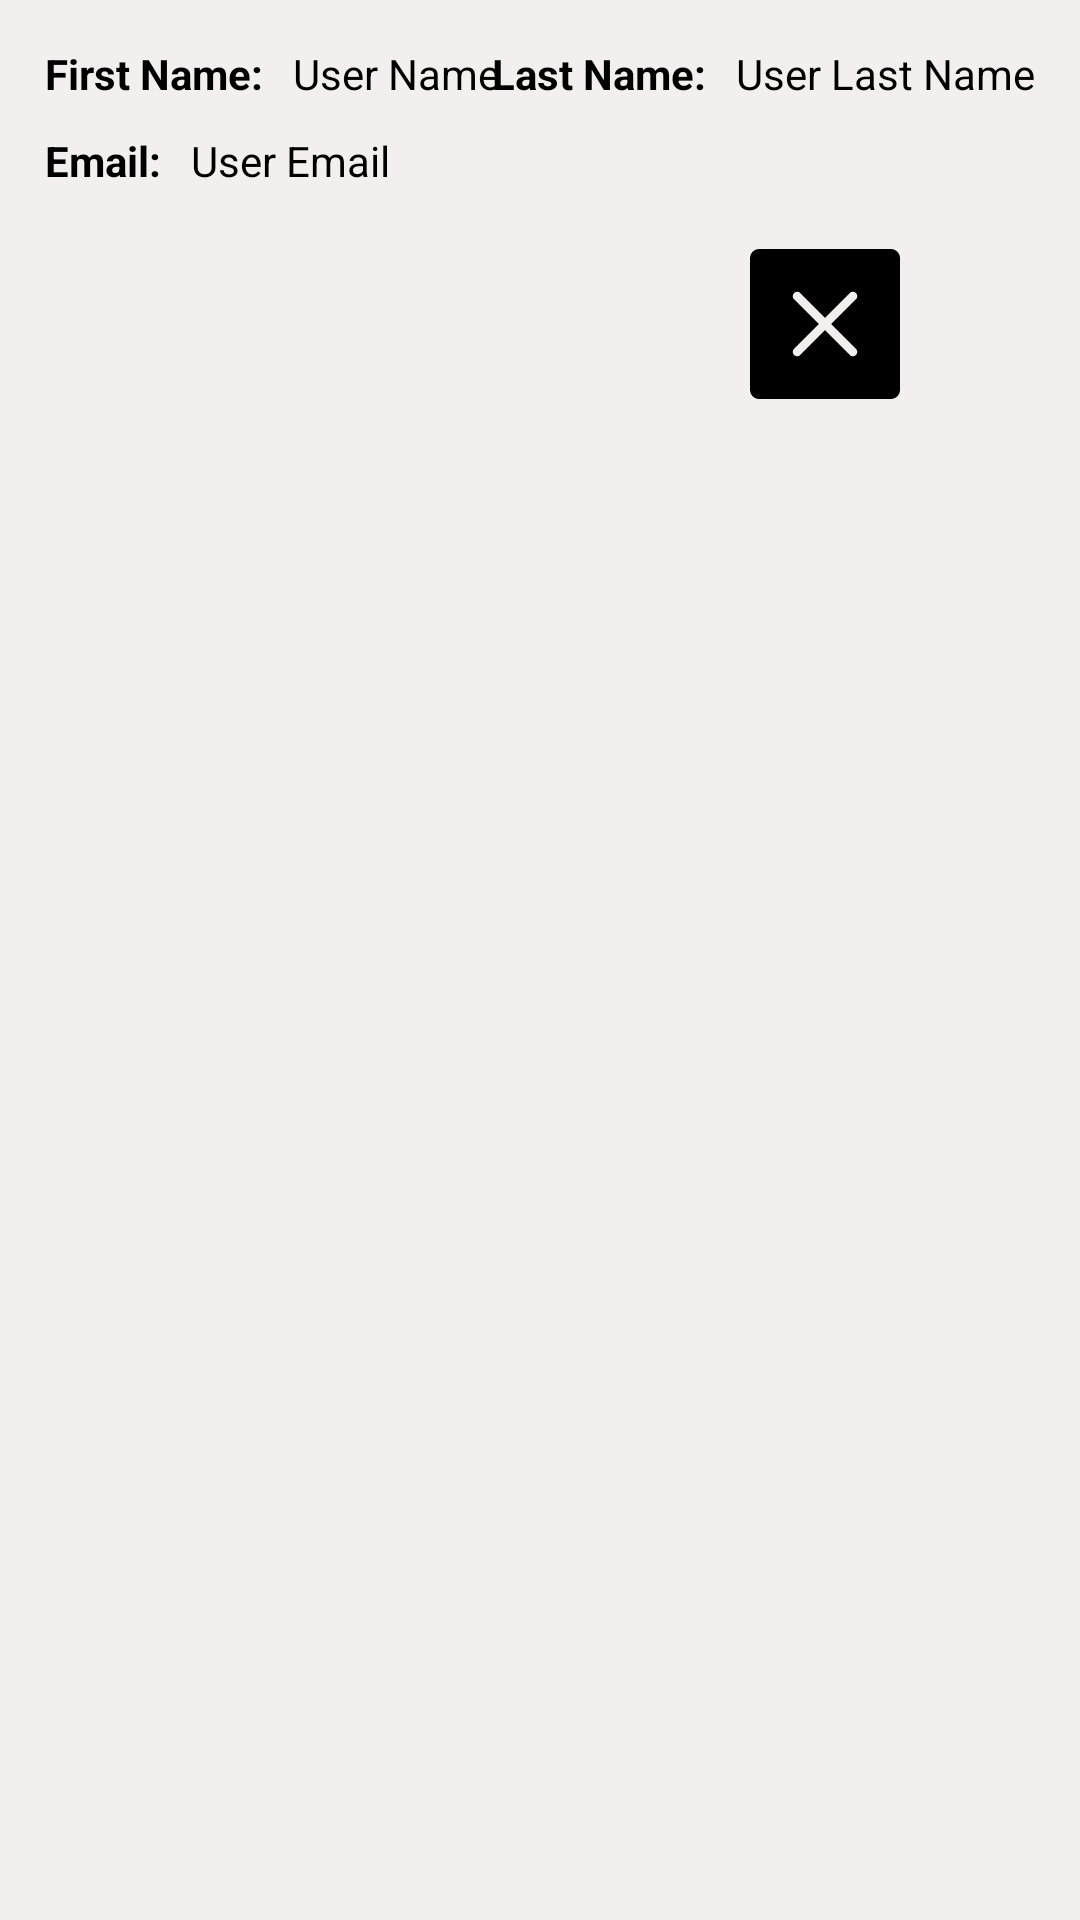

Point at icon controls on the screen. Image size 1080px×1920px, points as point (x, y).
delete: point (825, 324)
